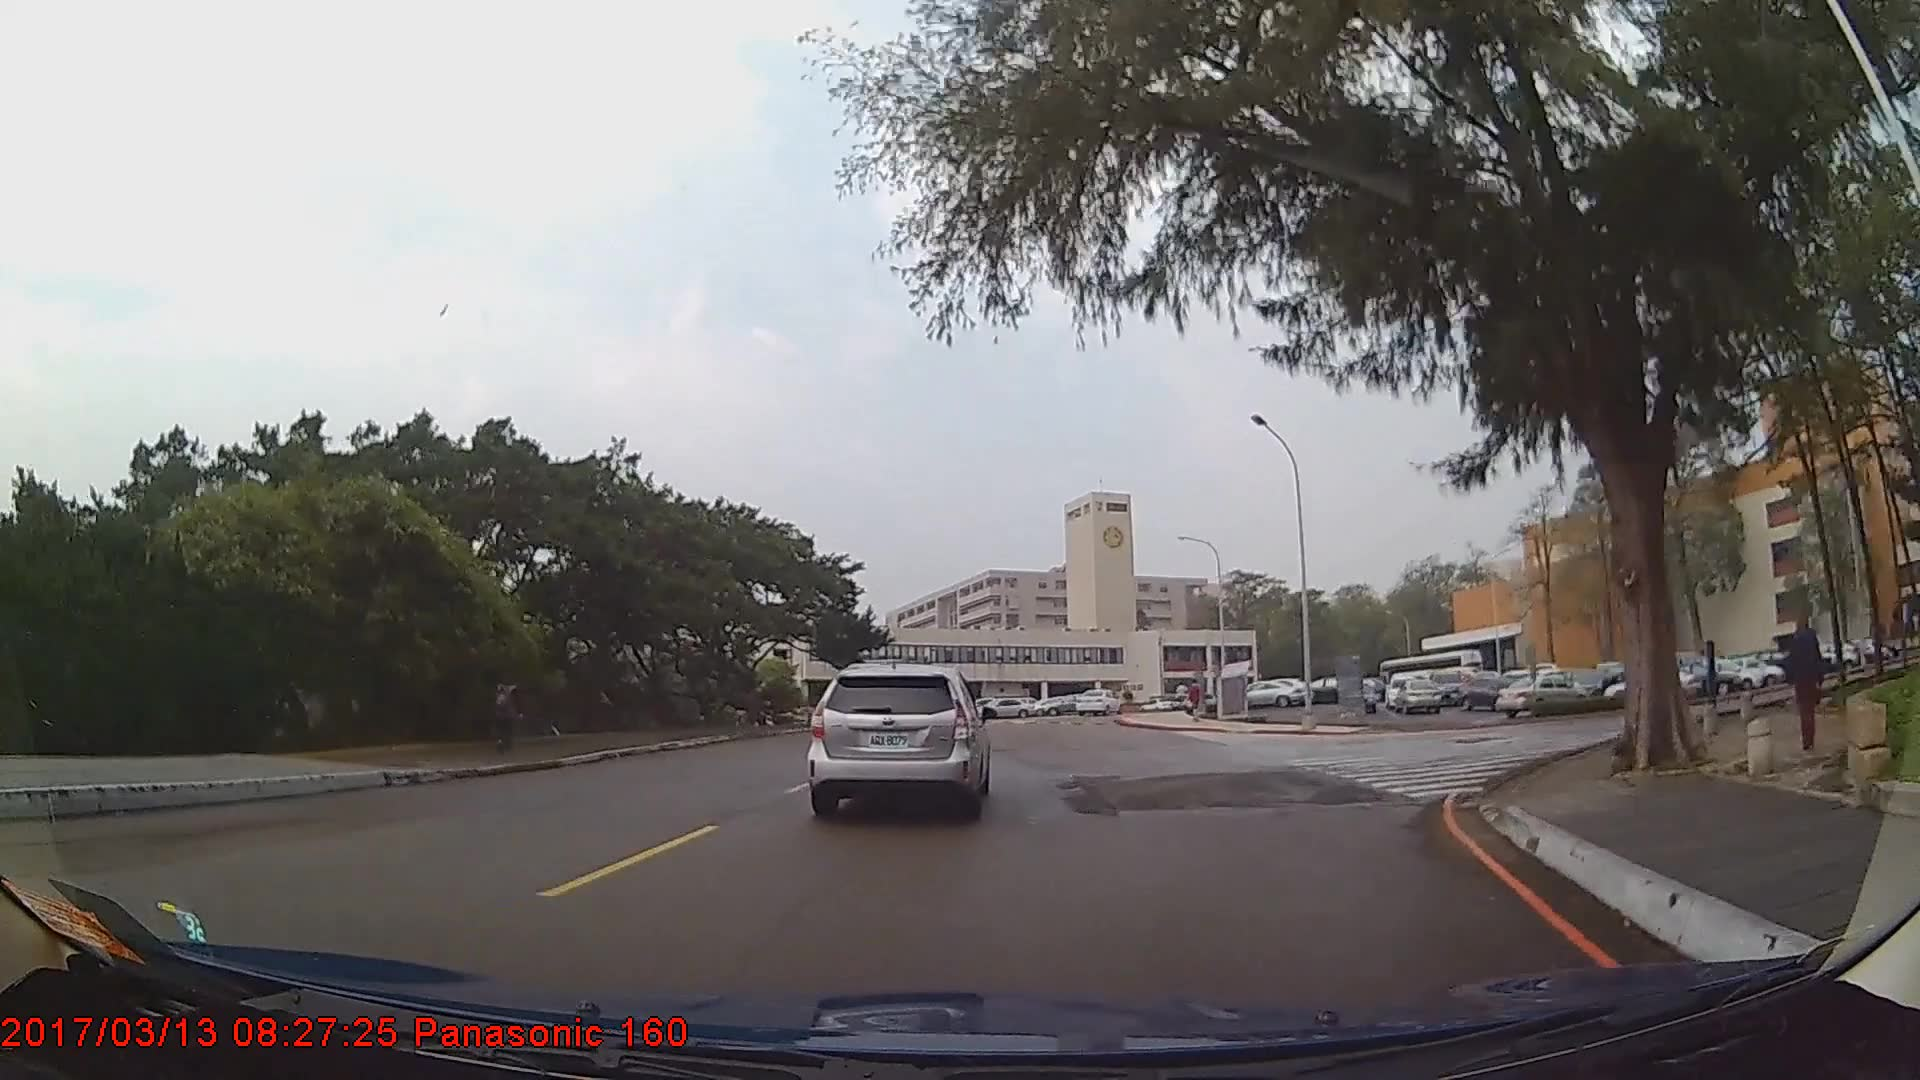pedestrian: (1777, 620, 1822, 754), (488, 670, 528, 753)
vehicle: (810, 661, 990, 819), (1492, 672, 1587, 719), (1455, 671, 1530, 711), (1234, 682, 1303, 708), (1393, 679, 1440, 716), (1072, 685, 1120, 717), (1427, 671, 1467, 708), (975, 696, 1038, 719)
